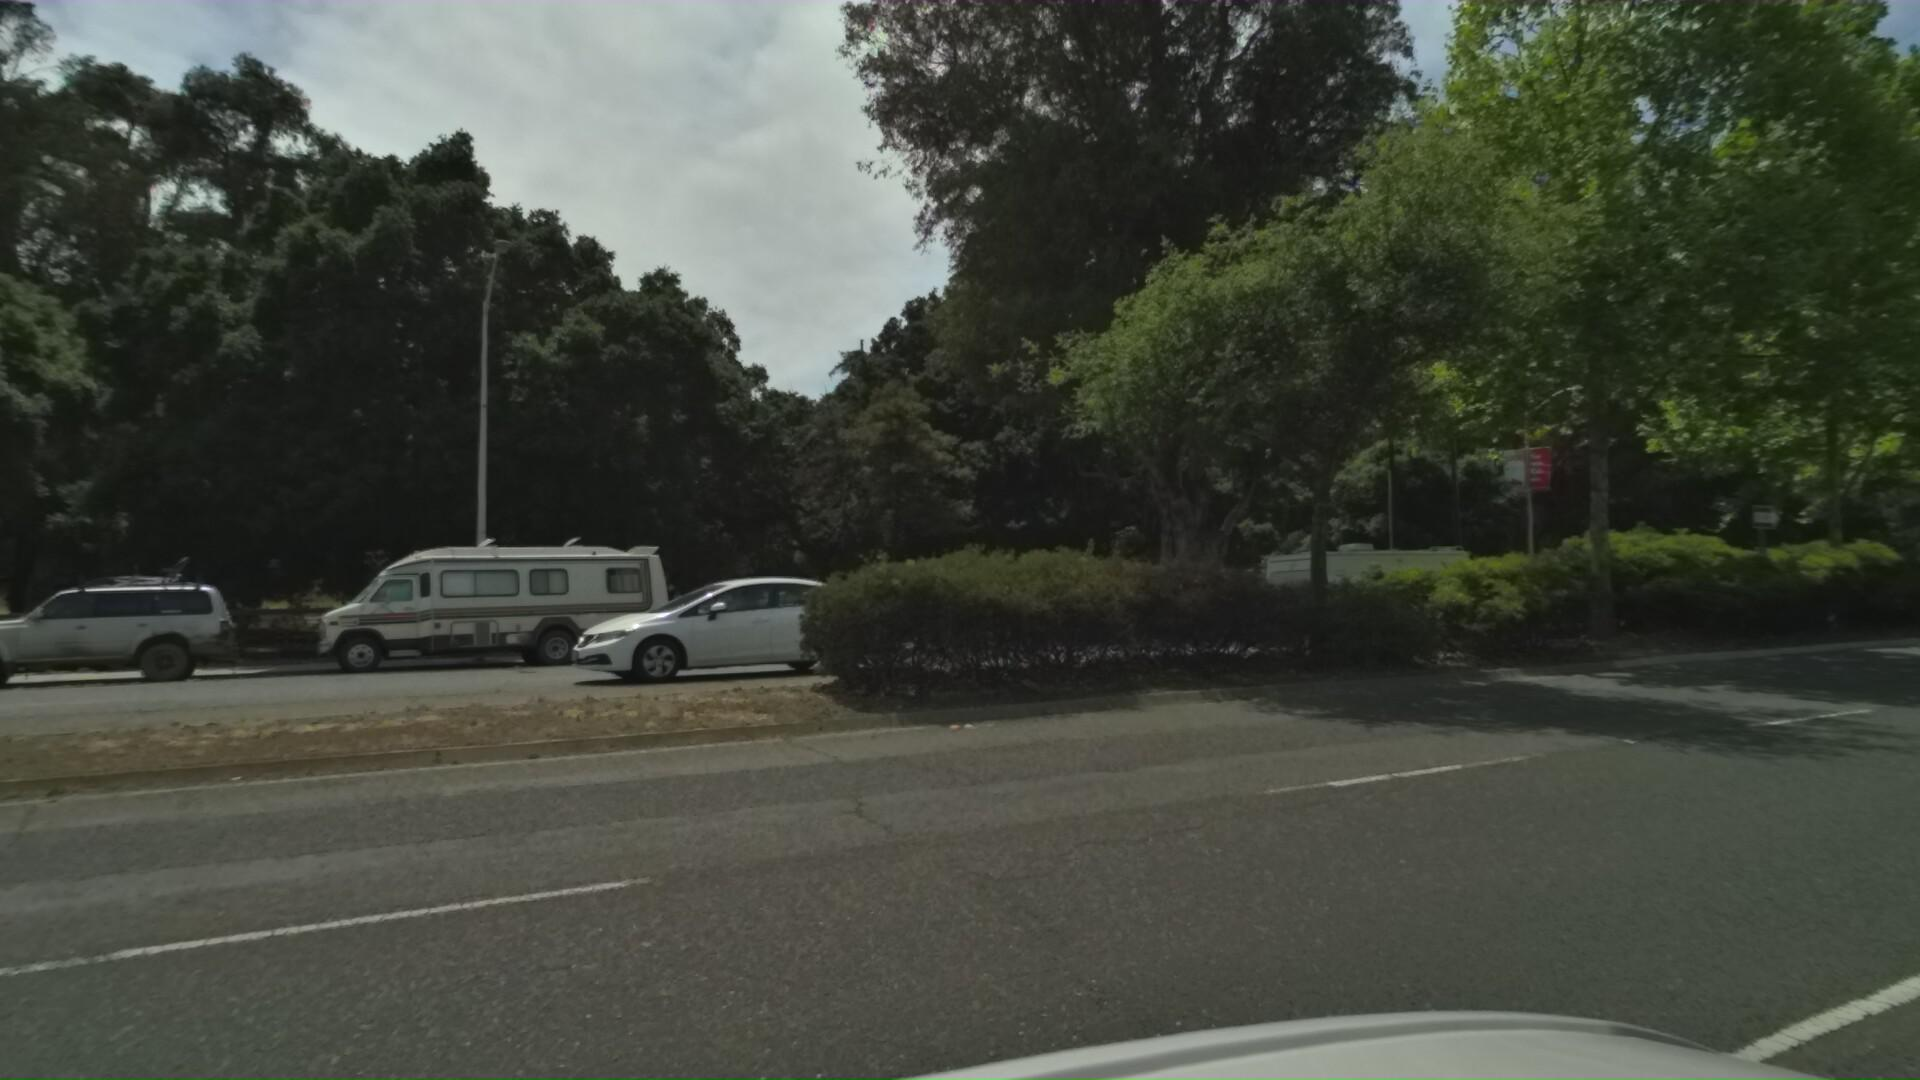car: (469, 575, 811, 699), (0, 555, 210, 707)
other_vehicle: (269, 527, 649, 686), (1217, 535, 1468, 645)
